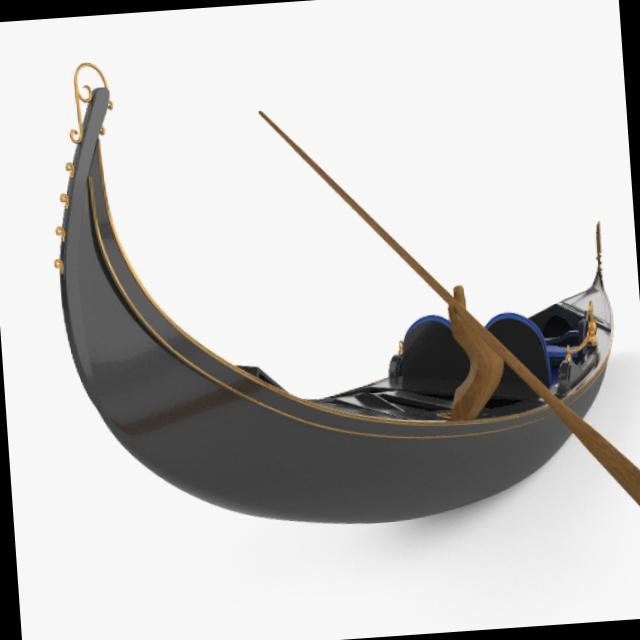boat: (25, 9, 640, 582)
